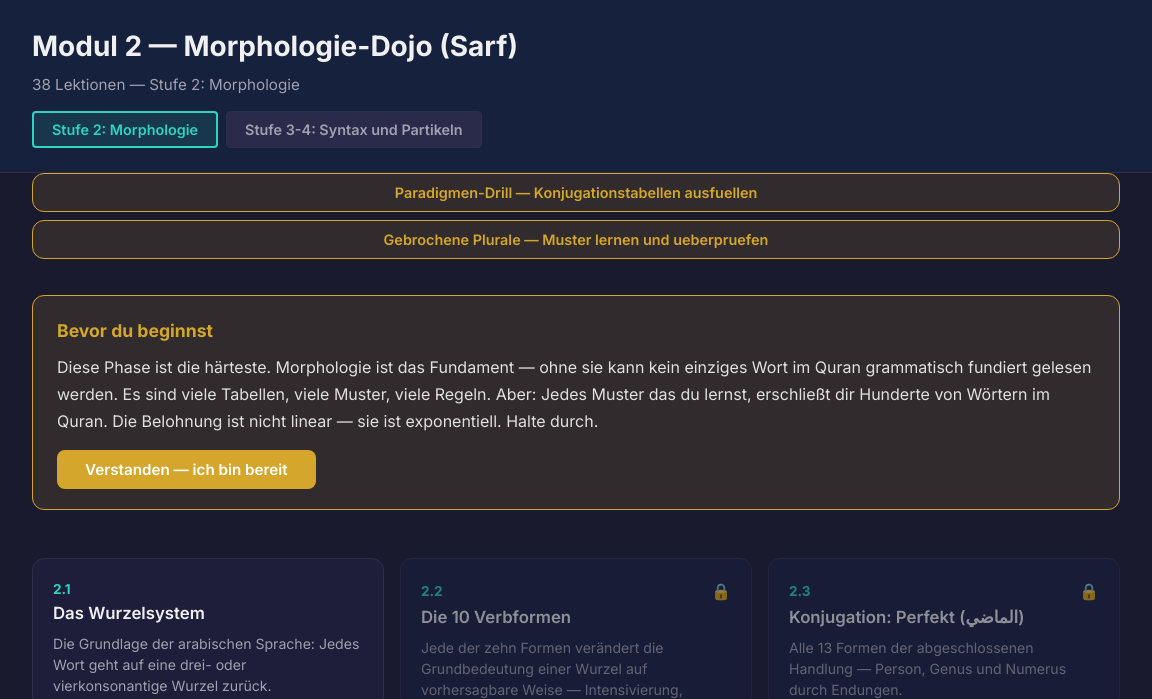
Test case: Module2 — Morphologie-Dojo interactions › opens lesson detail view when an unlocked lesson is clicked
Step 1. Click the button "Verstanden — ich bin bereit" → (186, 469), box [57,450,316,489]
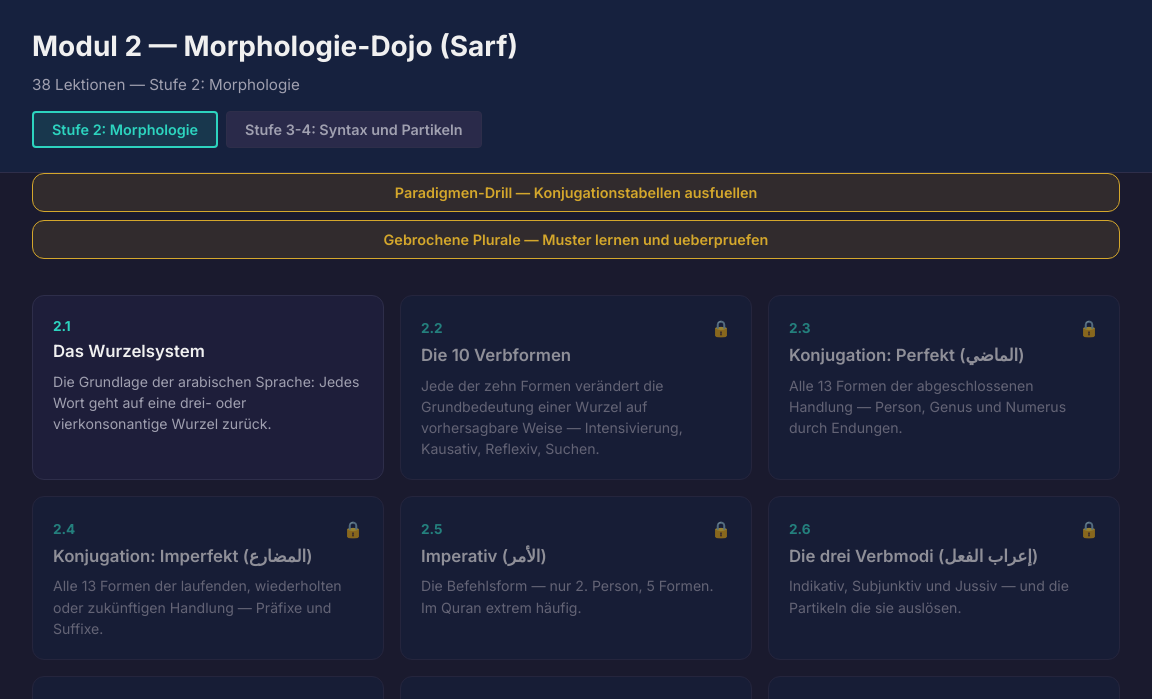
Step 2. Click the text "Das Wurzelsystem" → (129, 351), box [53,341,205,361]
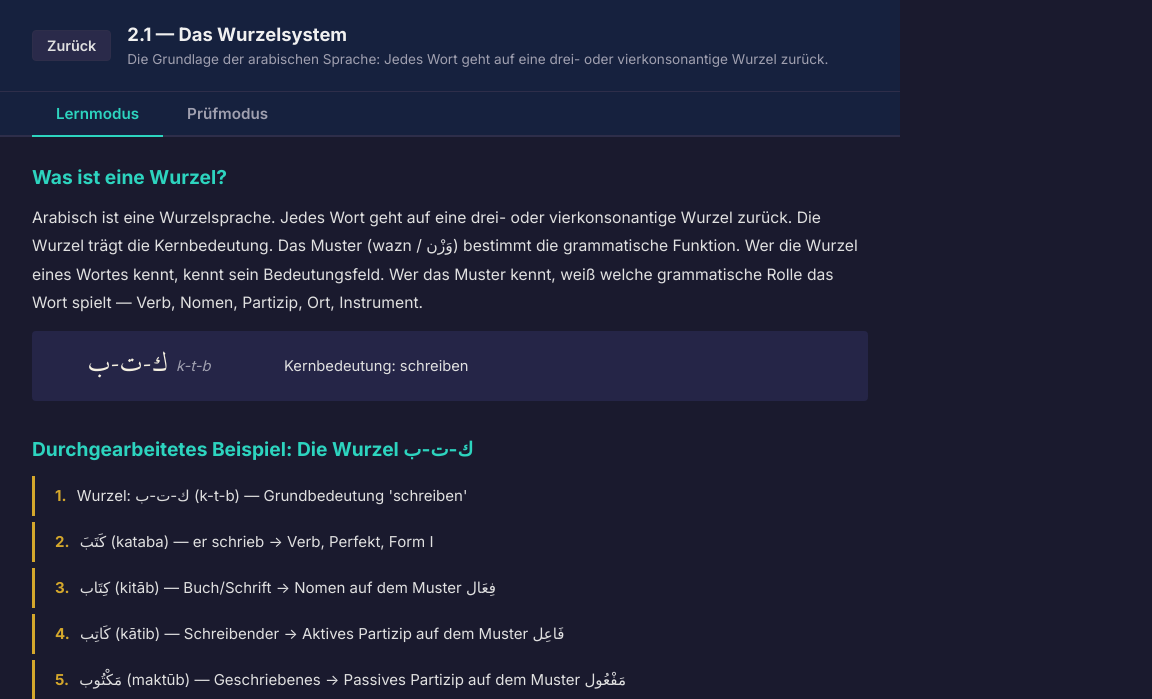
expect the text "2.1" is shown: met, box [127,23,151,45]
expect the button "Zurück" is shown: met, box [32,30,111,61]
